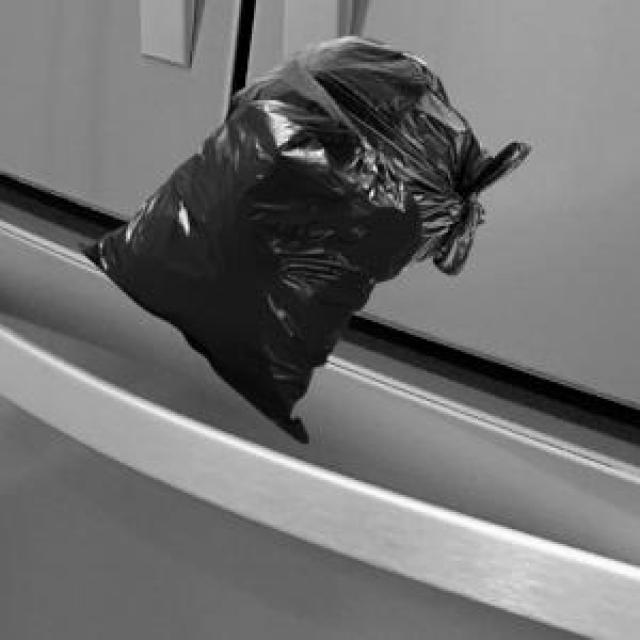miscellaneous trash: (75, 53, 418, 440), (224, 32, 527, 271)
